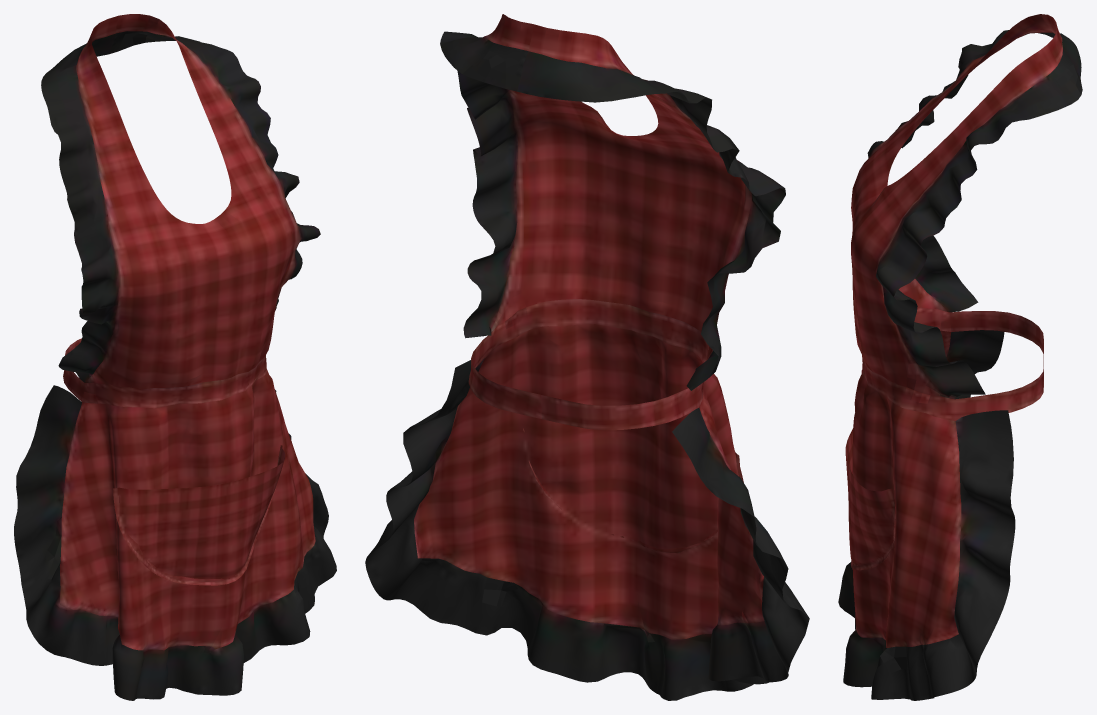
The model's file is ropa_apron.glb.
3 renders of one model, left to right at view 1: azimuth 30°, elevation 25°; view 2: azimuth 150°, elevation 25°; view 3: azimuth 270°, elevation 25°, orthographic. The views are drawn at different scales.
Parts seen in each view (by area): view 1: Object_2; view 2: Object_2; view 3: Object_2.
Boxes of the visible parts, <box> form: Object_2: <box>14,14,336,700</box>; Object_2: <box>365,14,809,700</box>; Object_2: <box>838,14,1082,700</box>.
Bounding box in the file's own units: 0.5147 × 0.9 × 0.3076.
1 material, 1 textured.
